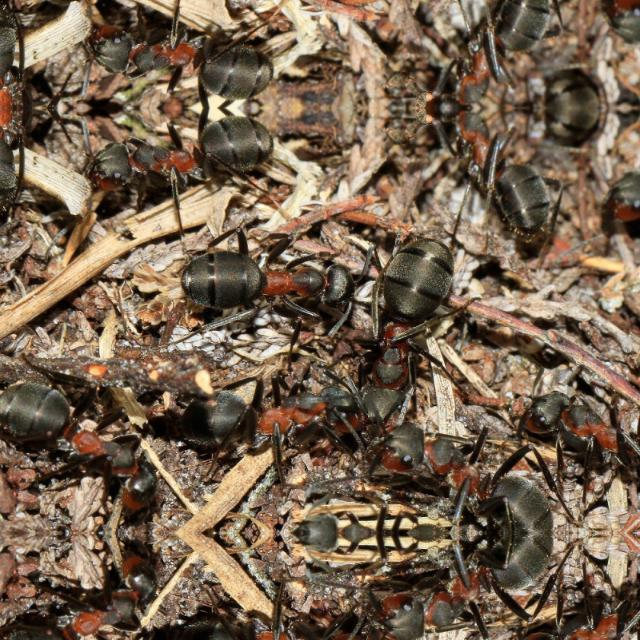Formica: (174, 349, 380, 493), (368, 404, 564, 532), (352, 235, 472, 431), (407, 107, 563, 249), (368, 532, 562, 640), (1, 379, 154, 507), (76, 116, 288, 207), (76, 8, 288, 98), (499, 353, 639, 489), (407, 0, 563, 106), (189, 232, 357, 326), (174, 572, 380, 640), (0, 558, 154, 640), (499, 576, 639, 640), (0, 106, 60, 247), (0, 0, 60, 106), (601, 156, 639, 244), (601, 0, 639, 58)
